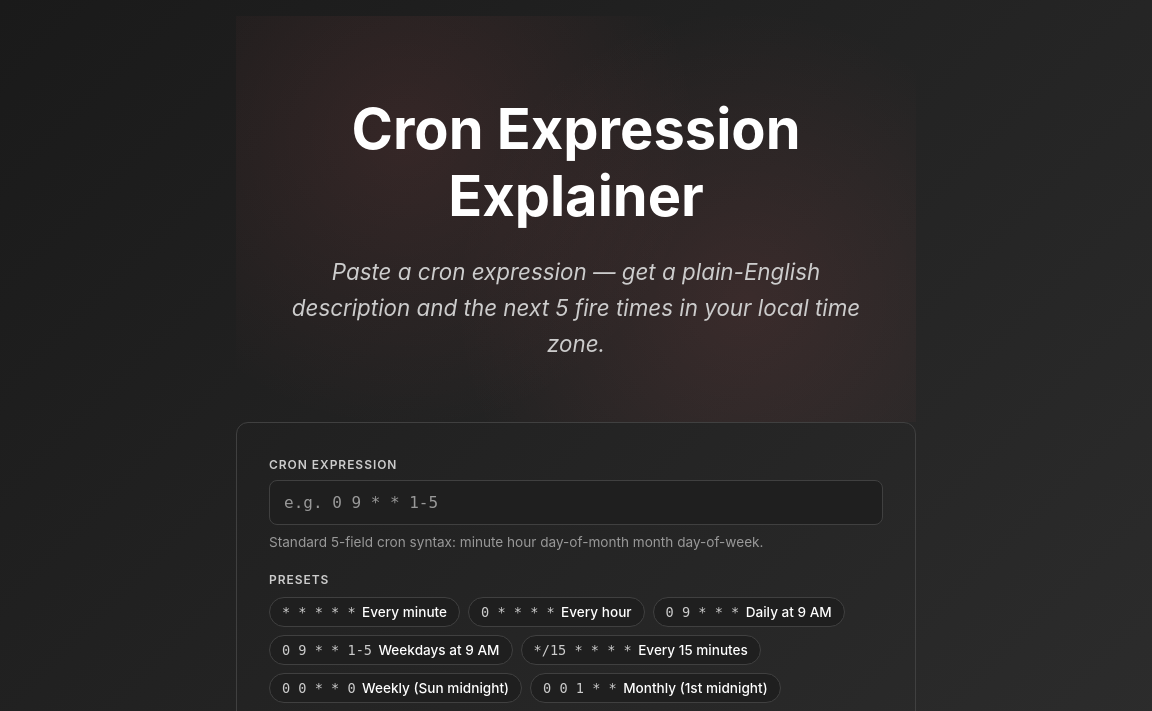
Scenario: <CronExplainer /> — typing → description › invalid input shows error border + helper text and no description
Type "not-a-cron" into the field labelled "Cron expression" at (576, 503), box [269,480,883,526]
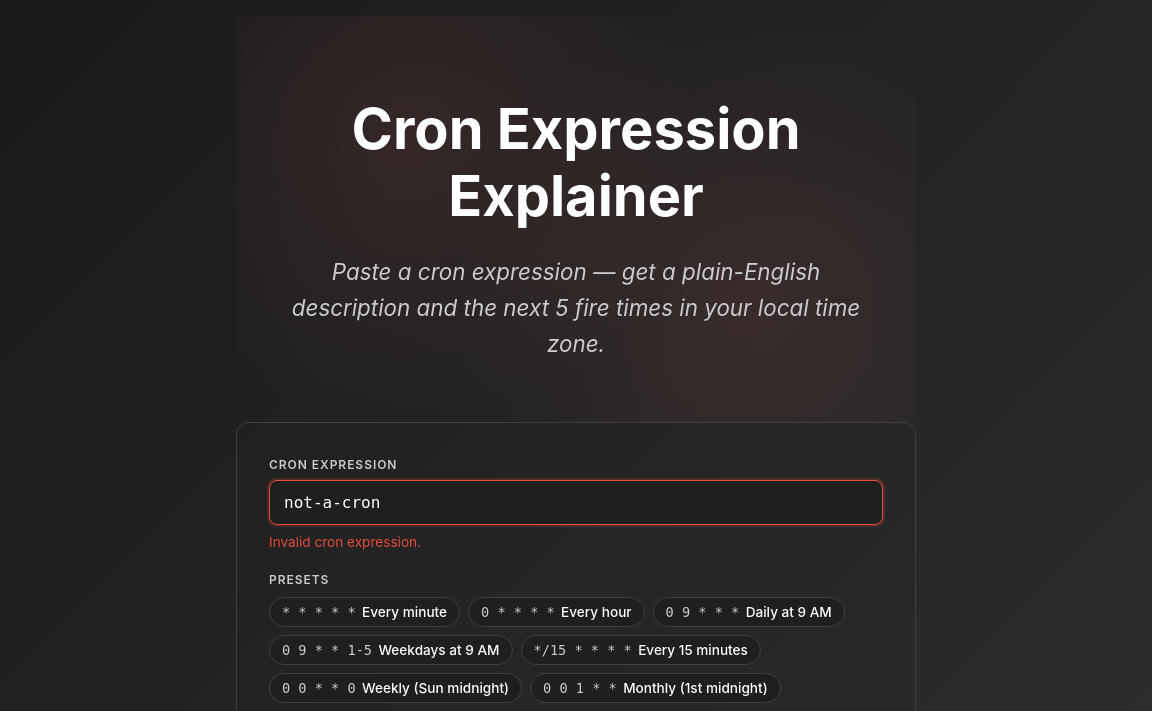
Now the message shows "Invalid cron expression", box [269,534,421,550]
